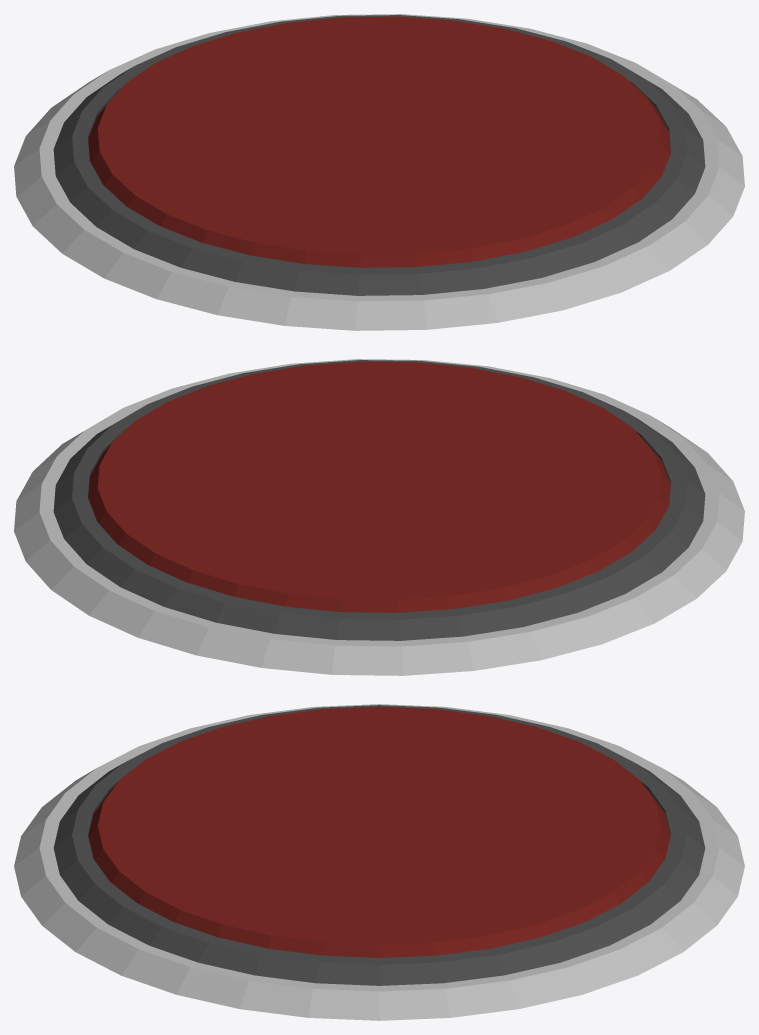
The model's file is RoundPressurePlate.fbx.
3 renders of one model, top to bottom at view 1: azimuth 30°, elevation 25°; view 2: azimuth 150°, elevation 25°; view 3: azimuth 270°, elevation 25°, orthographic.
Parts seen in each view (by area): view 1: Round_Pressure_Plate, Round_Pressure_Plate_Base; view 2: Round_Pressure_Plate, Round_Pressure_Plate_Base; view 3: Round_Pressure_Plate, Round_Pressure_Plate_Base.
Boxes of the visible parts, x1=… form: Round_Pressure_Plate: x1=88, y1=16, x2=670, y2=267; Round_Pressure_Plate_Base: x1=14, y1=14, x2=744, y2=330; Round_Pressure_Plate: x1=88, y1=361, x2=670, y2=612; Round_Pressure_Plate_Base: x1=14, y1=359, x2=744, y2=675; Round_Pressure_Plate: x1=88, y1=706, x2=670, y2=957; Round_Pressure_Plate_Base: x1=14, y1=704, x2=744, y2=1020.
Bounding box in the file's own units: 202 × 12.4 × 202.
